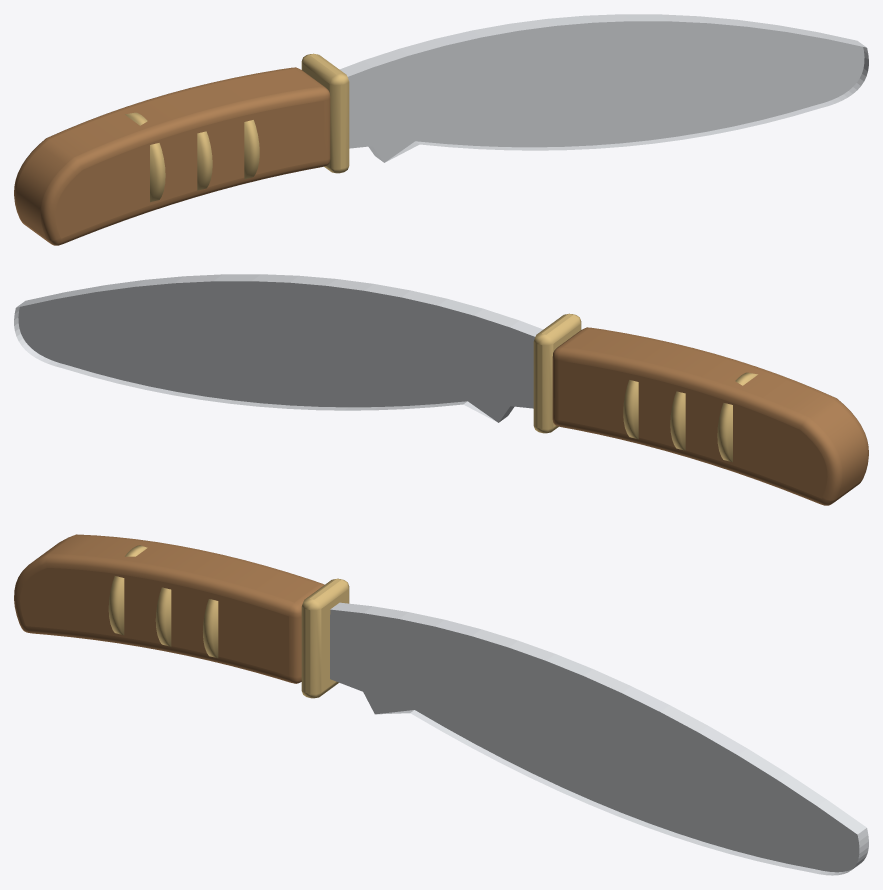
Rendered from knife_kukri.glb.
3 views of the same model, one above another, from view 1: azimuth 30°, elevation 25°; view 2: azimuth 150°, elevation 25°; view 3: azimuth 330°, elevation 25° (orthographic).
Parts seen in each view (by area): view 1: blade, handle, bolster, ring2, ring0, ring1; view 2: blade, handle, bolster, ring2, ring0, ring1; view 3: blade, handle, bolster, ring2, ring1, ring0.
Part boxes in pixels (x1,y1,x2,y2): blade: (339, 14, 868, 162); handle: (14, 67, 330, 245); bolster: (301, 53, 349, 173); ring2: (125, 112, 165, 202); ring0: (244, 120, 259, 179); ring1: (197, 131, 212, 190); blade: (14, 274, 543, 422); handle: (552, 327, 868, 505); bolster: (533, 313, 581, 433); ring2: (717, 372, 757, 462); ring0: (623, 380, 638, 439); ring1: (670, 391, 685, 450); blade: (330, 602, 868, 875); handle: (14, 534, 324, 683); bolster: (301, 578, 349, 698); ring2: (108, 545, 147, 635); ring1: (155, 587, 171, 646); ring0: (203, 599, 218, 658).
Bounding box in the file's own units: 0.355 × 0.0657 × 0.035.
